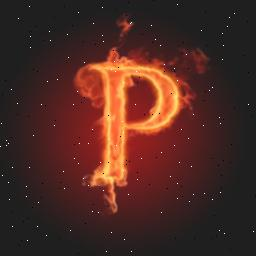p: (94, 62, 182, 182)
